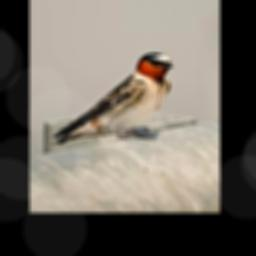Swallow: (49, 50, 174, 145)
